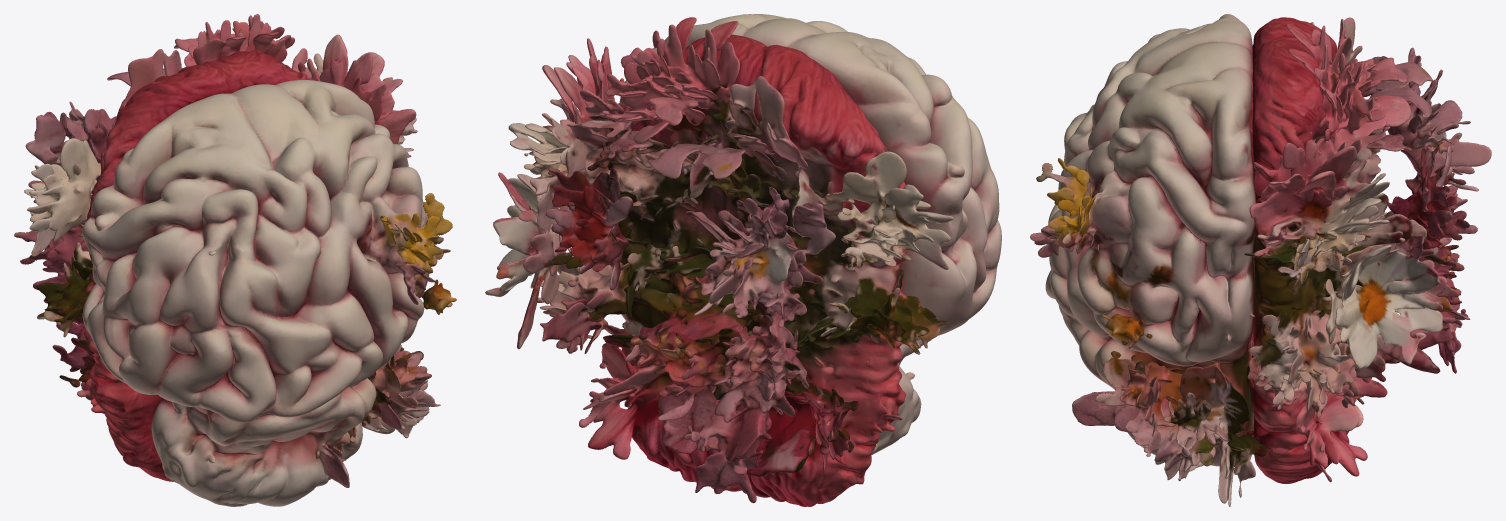
File: brain-flower.glb
The picture shows the model from 3 angles, left to right: view 1: azimuth 30°, elevation 25°; view 2: azimuth 150°, elevation 25°; view 3: azimuth 270°, elevation 25°; orthographic projection. The views are drawn at different scales.
Parts seen in each view (by area): view 1: tripo_node_dc110a54-a8e6-4063-b781-4e72b89eb6be; view 2: tripo_node_dc110a54-a8e6-4063-b781-4e72b89eb6be; view 3: tripo_node_dc110a54-a8e6-4063-b781-4e72b89eb6be.
Part boxes in pixels (x1=…): tripo_node_dc110a54-a8e6-4063-b781-4e72b89eb6be: x1=14, y1=14, x2=456, y2=506; tripo_node_dc110a54-a8e6-4063-b781-4e72b89eb6be: x1=485, y1=14, x2=1001, y2=506; tripo_node_dc110a54-a8e6-4063-b781-4e72b89eb6be: x1=1030, y1=14, x2=1491, y2=506.
Size of the model in its own units: 0.9425 by 0.9998 by 0.9399.
1 material, 1 textured.
